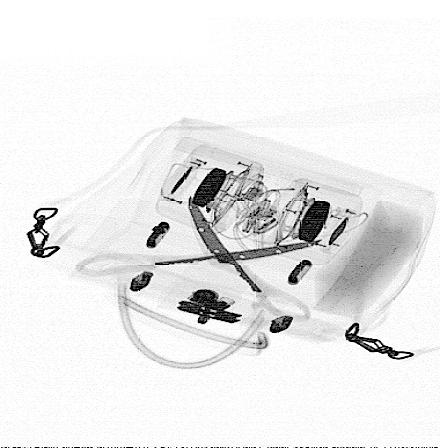Scissors: (76, 193, 325, 327)
